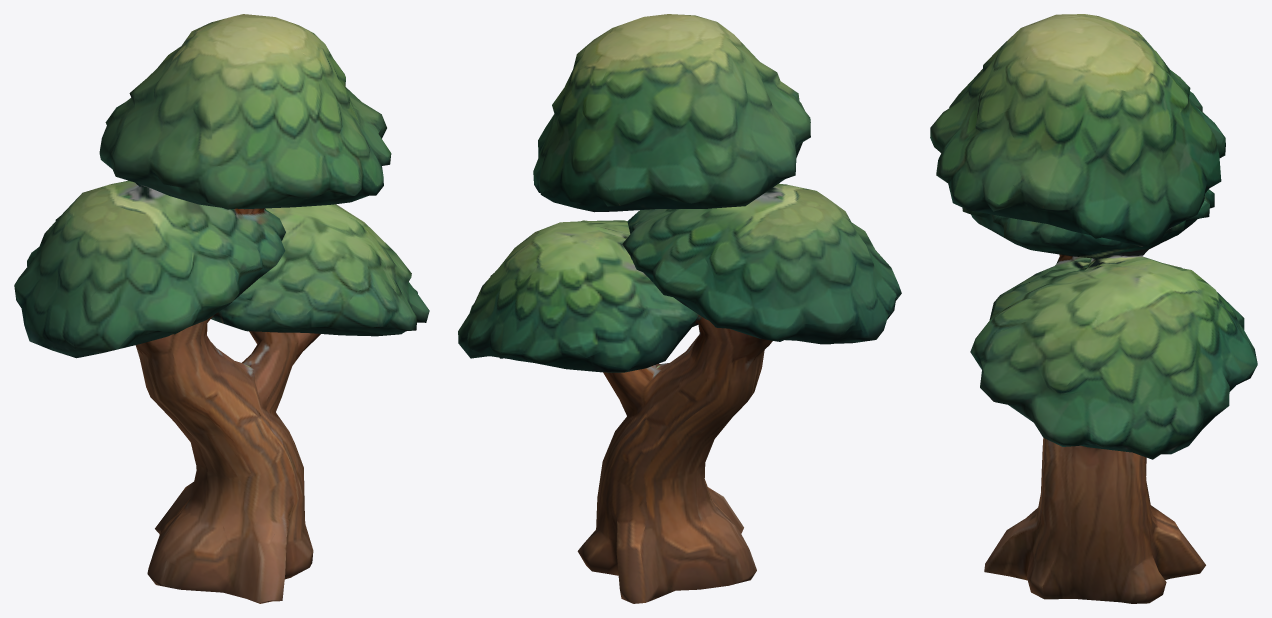
3 renders of one model, left to right at view 1: azimuth 30°, elevation 25°; view 2: azimuth 150°, elevation 25°; view 3: azimuth 270°, elevation 25°, orthographic. The views are drawn at different scales.
Visible parts, largest first — view 1: texture_mapping; view 2: texture_mapping; view 3: texture_mapping.
Boxes of the visible parts, box(x1,y1,x2,y2) form: texture_mapping: box(14, 14, 429, 603); texture_mapping: box(458, 14, 901, 603); texture_mapping: box(930, 14, 1257, 603).
Size of the model in its own units: 0.7711 by 1 by 0.54.
Materials: 1 (1 with a texture image).
